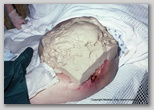ND: (43, 23, 114, 94)
